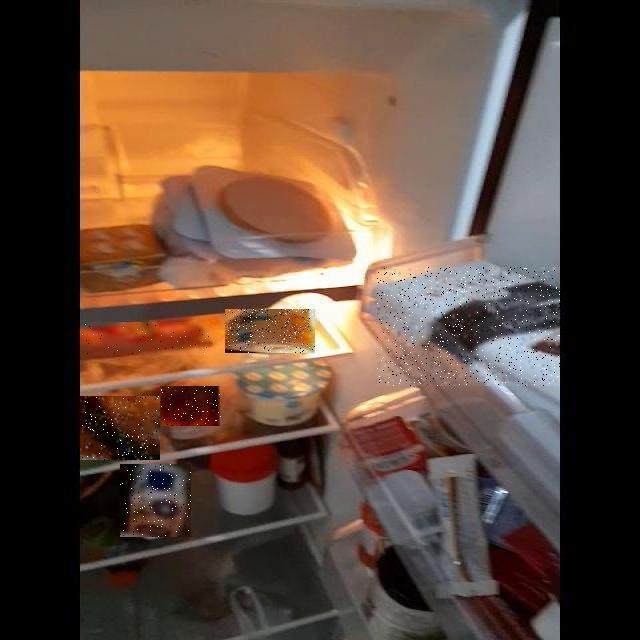Carrot: (80, 322, 209, 355)
Chillies: (80, 396, 160, 460)
Chocolate: (377, 267, 560, 386)
Milk: (120, 464, 191, 537)
Tomato Paste: (162, 386, 222, 426)
Yoghurt: (225, 309, 315, 353)
